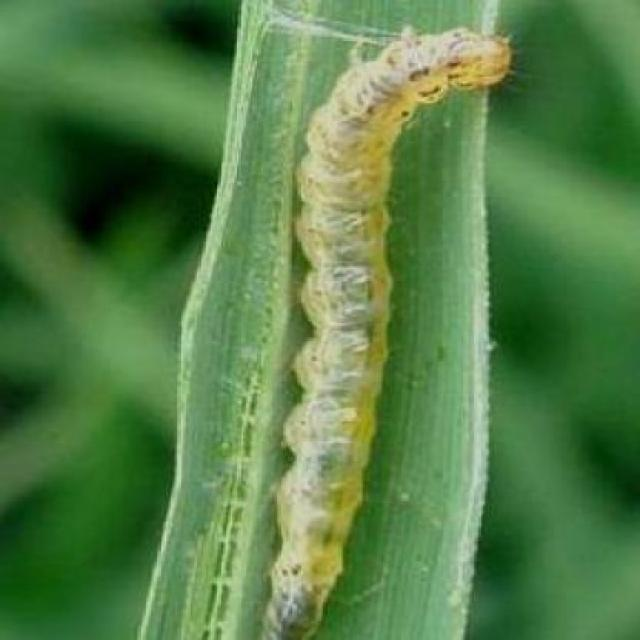leaf-folder: (194, 23, 532, 629)
